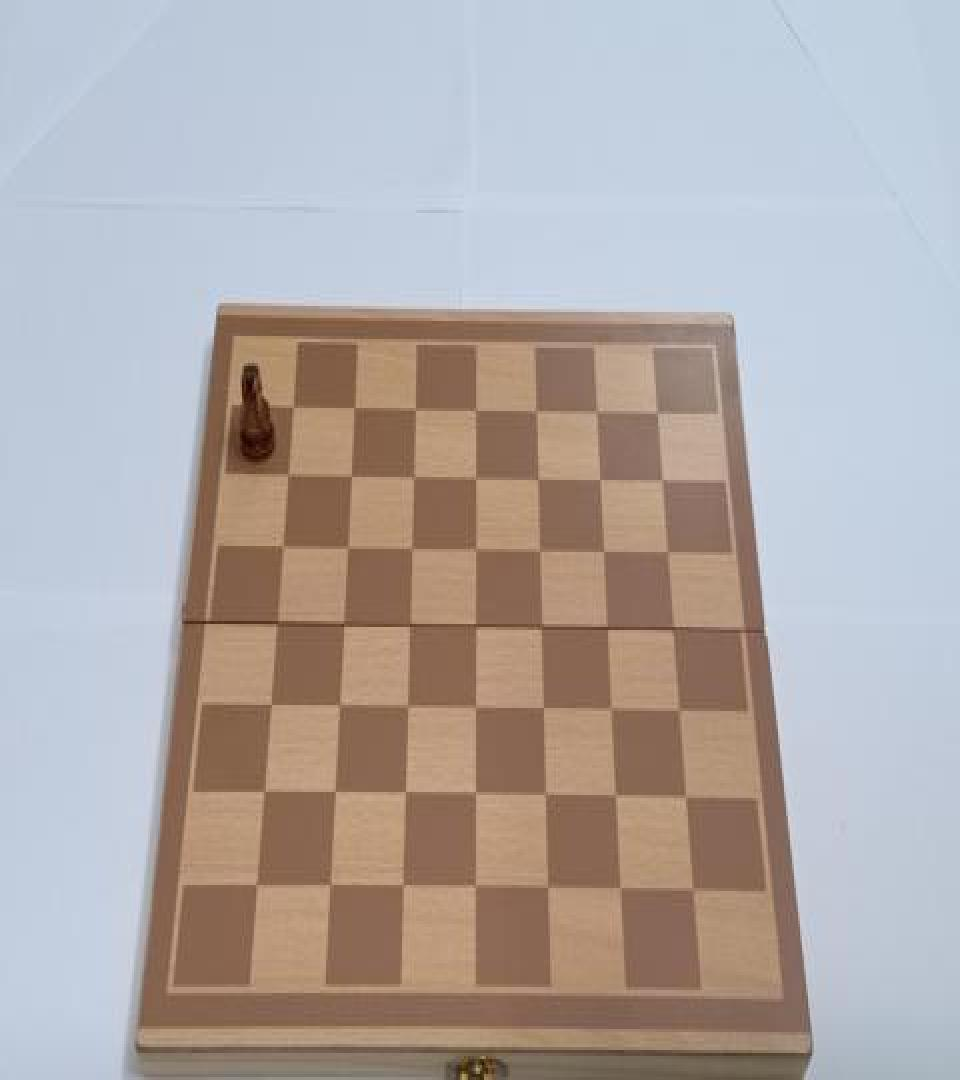xcorner: (648, 397, 668, 428), (654, 466, 674, 497), (279, 388, 299, 418), (274, 459, 294, 489), (269, 532, 289, 562), (263, 609, 283, 639), (258, 693, 278, 723), (251, 780, 271, 810), (245, 874, 265, 904), (341, 390, 361, 420), (338, 459, 358, 489), (335, 532, 355, 562), (327, 693, 347, 723), (324, 782, 344, 812), (319, 874, 339, 904), (403, 392, 423, 422), (402, 460, 422, 490), (400, 534, 420, 564), (399, 612, 419, 642), (397, 694, 417, 724), (395, 782, 415, 812), (393, 874, 413, 904), (465, 393, 485, 423), (465, 462, 485, 492), (466, 614, 486, 644), (466, 694, 486, 724), (467, 783, 487, 813), (467, 876, 487, 906), (526, 394, 546, 424), (528, 464, 548, 494), (530, 537, 550, 567), (533, 614, 553, 644), (535, 696, 555, 726), (538, 783, 558, 813), (541, 876, 561, 906), (587, 396, 607, 426), (591, 465, 611, 495), (595, 538, 615, 568), (599, 615, 619, 645), (614, 876, 634, 906), (659, 538, 679, 568), (331, 611, 351, 640), (465, 536, 485, 565), (604, 698, 624, 727), (608, 785, 628, 814), (665, 617, 685, 646), (672, 698, 692, 727), (679, 785, 699, 814), (686, 878, 706, 907)
